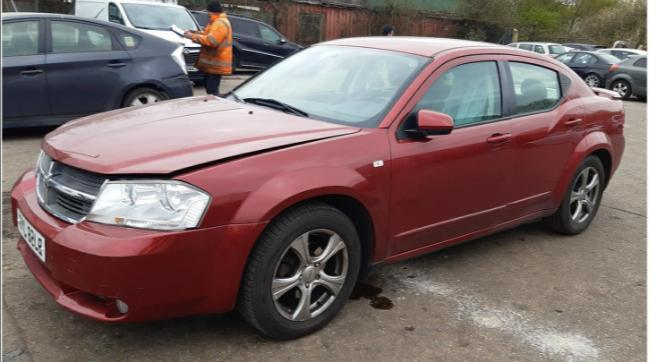Broken part: (103, 133, 349, 183)
Scratch: (113, 287, 144, 297), (91, 292, 105, 300), (97, 283, 109, 288), (86, 283, 91, 294), (106, 295, 117, 299), (70, 285, 78, 289), (49, 251, 52, 261), (50, 275, 56, 279)
